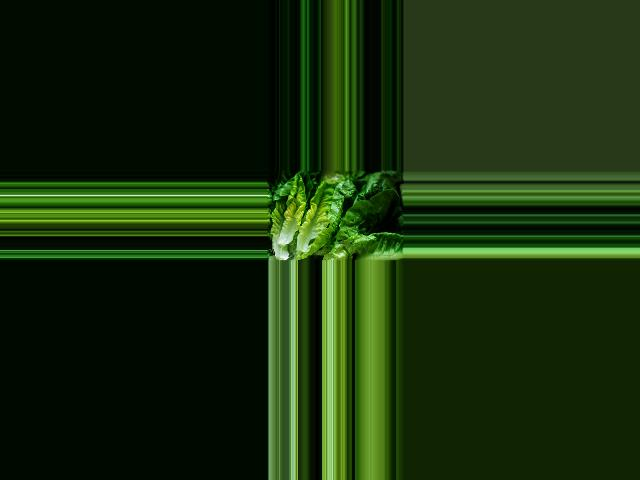lettuce: (270, 176, 357, 261)
